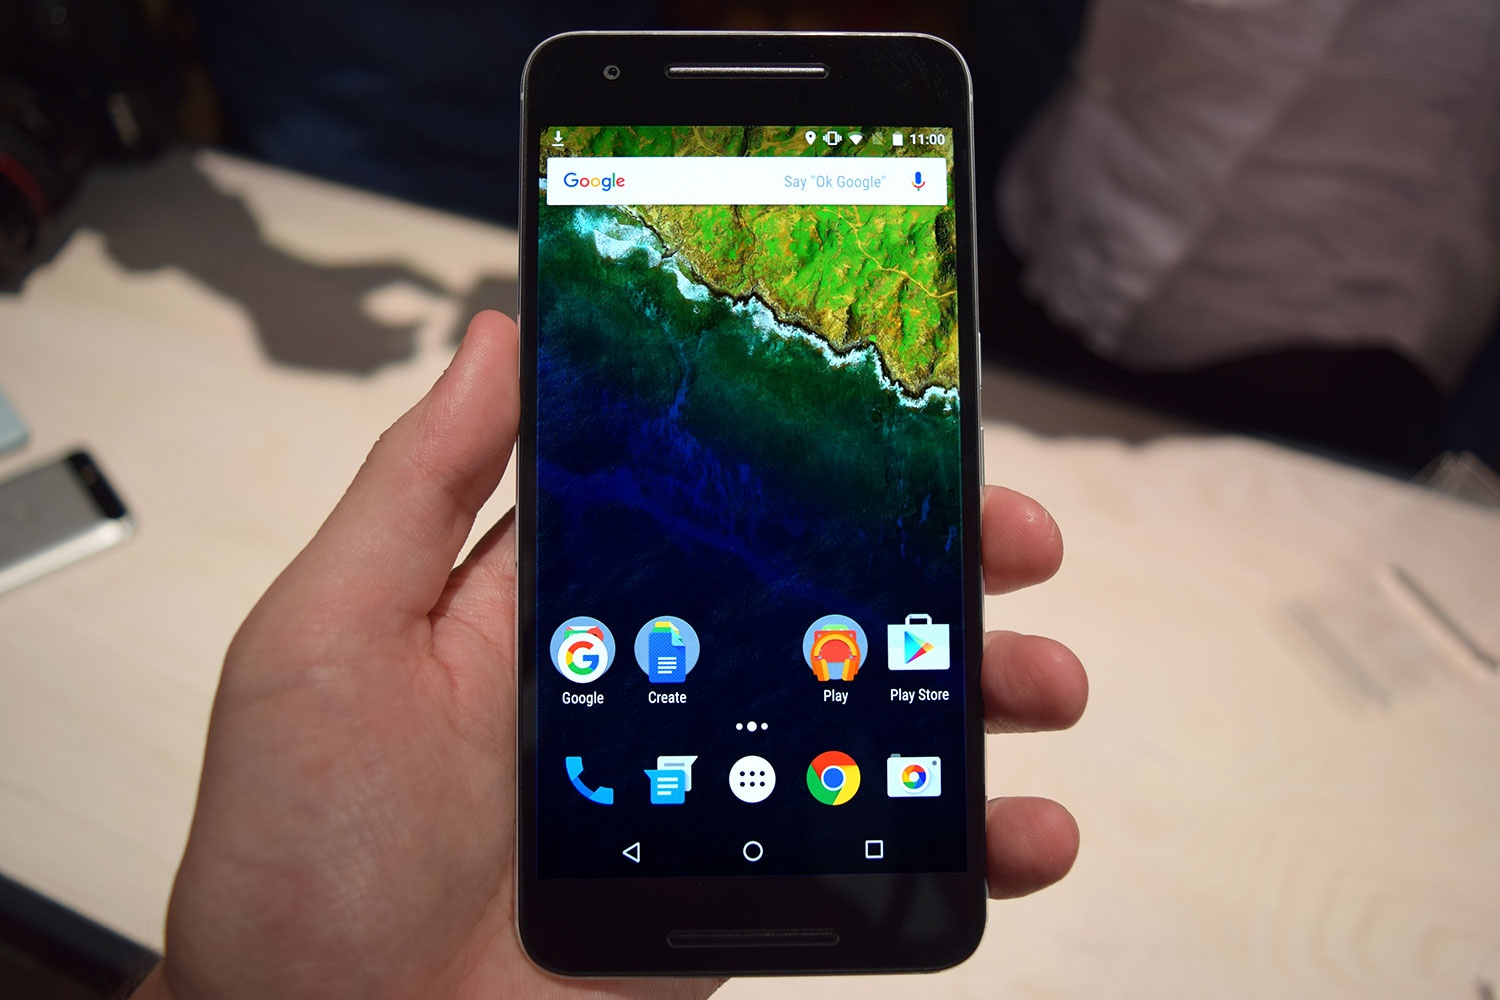smartphone: (515, 30, 987, 979)
